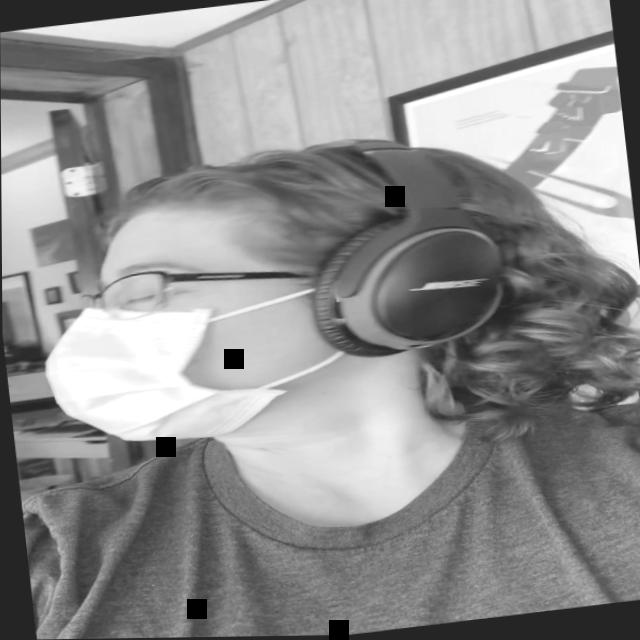Mask: (29, 192, 324, 456)
